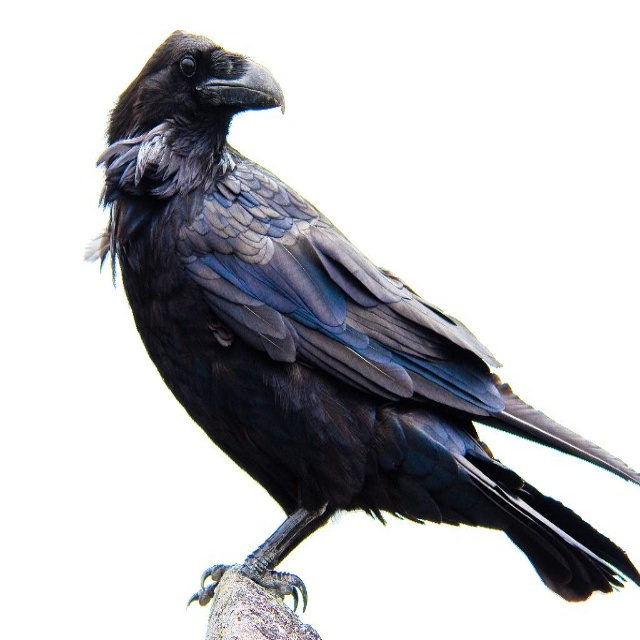Raven: (83, 30, 640, 613)
